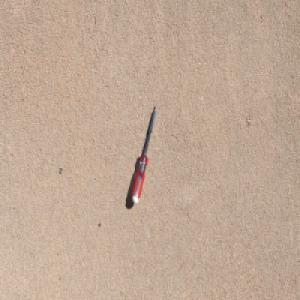Screwdriver: (131, 102, 158, 204)
